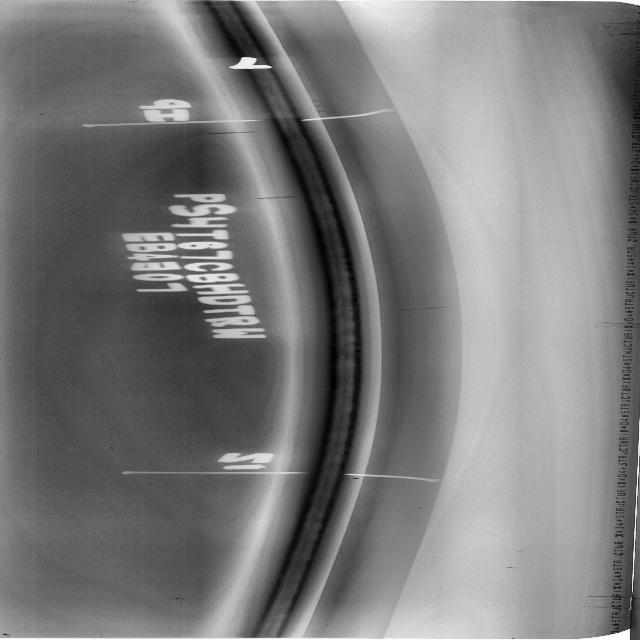porosity: (287, 129, 297, 132), (316, 193, 326, 196)
